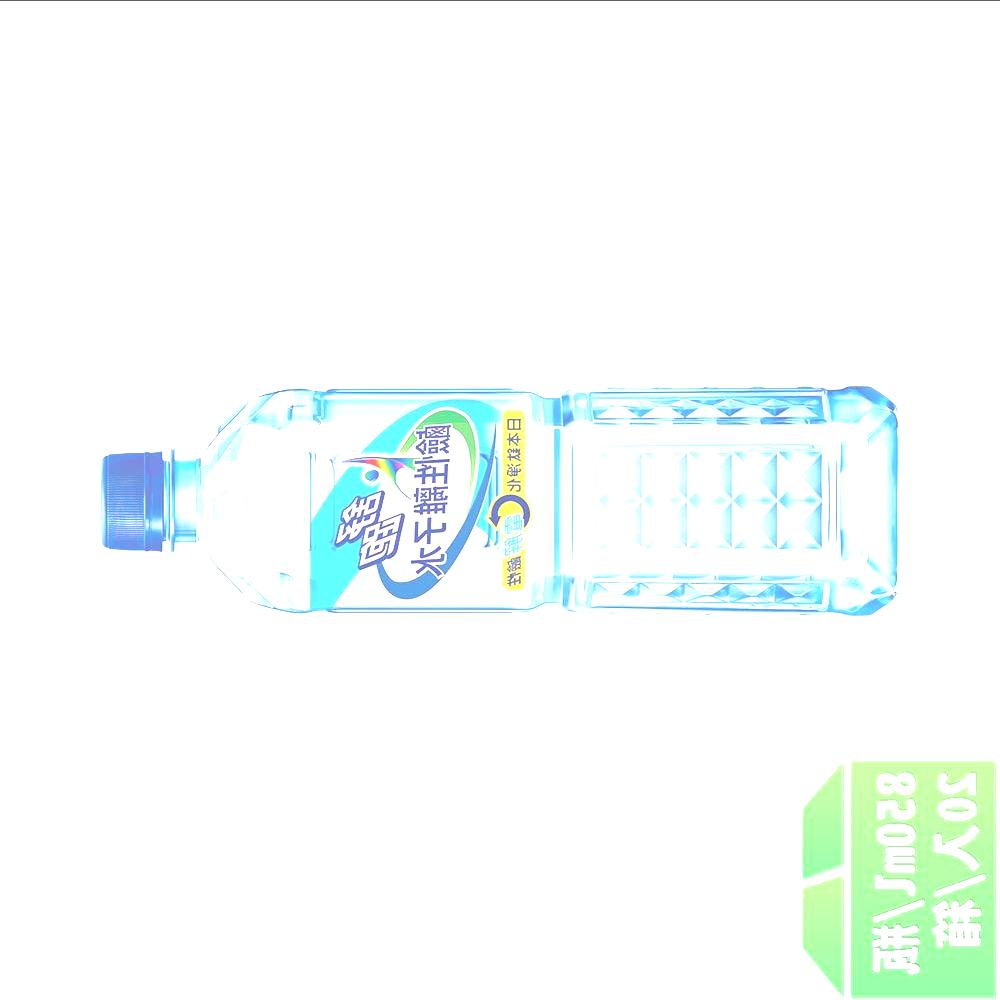bottle: (81, 364, 911, 628)
